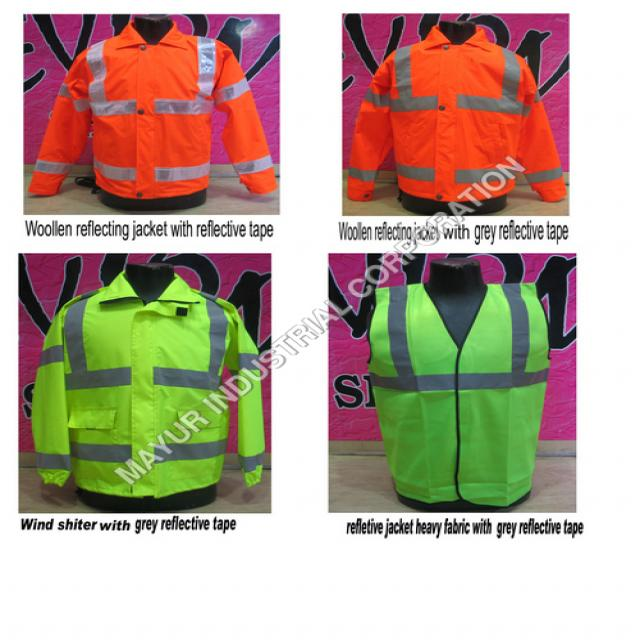Reflective-Jacket: (28, 276, 260, 510), (361, 275, 558, 509), (32, 34, 276, 209), (357, 35, 566, 209)
